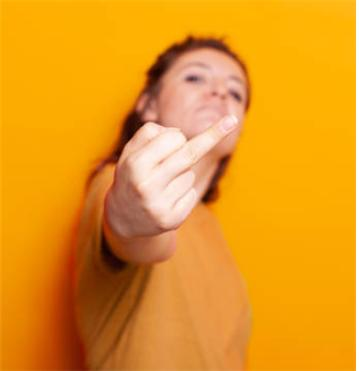insulting_gesture: (107, 112, 239, 239)
